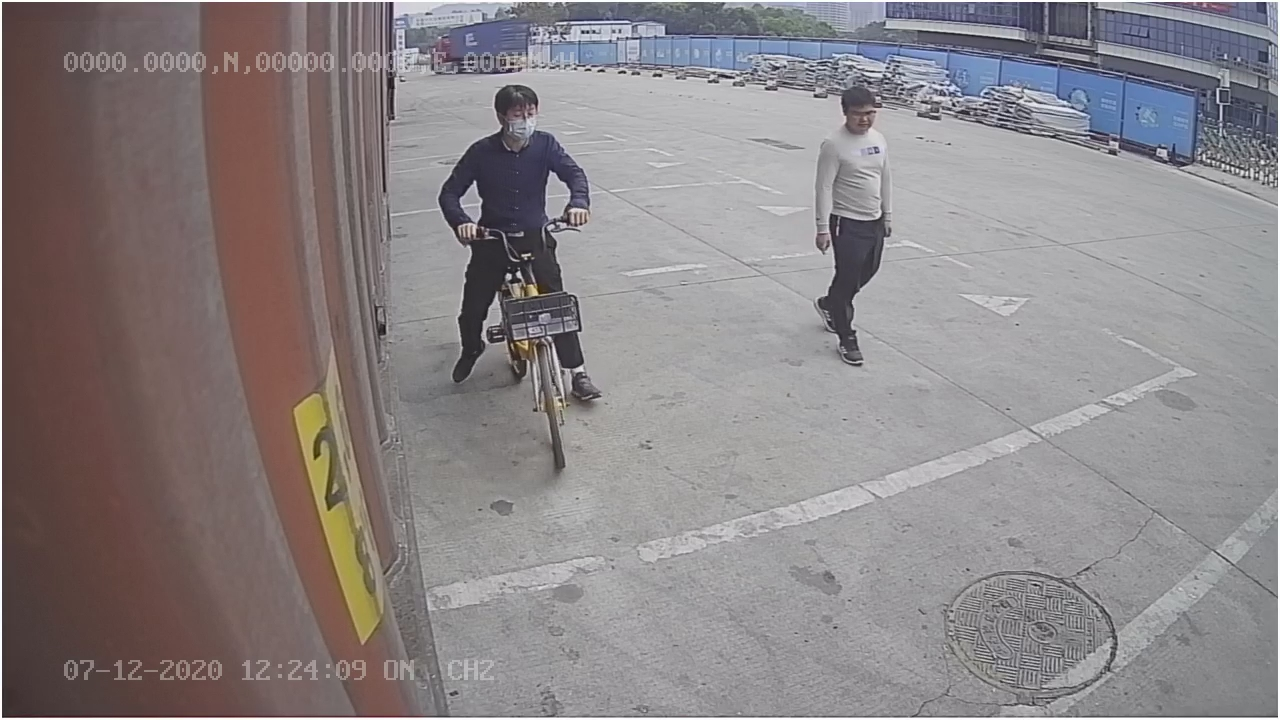person: (805, 82, 901, 373)
